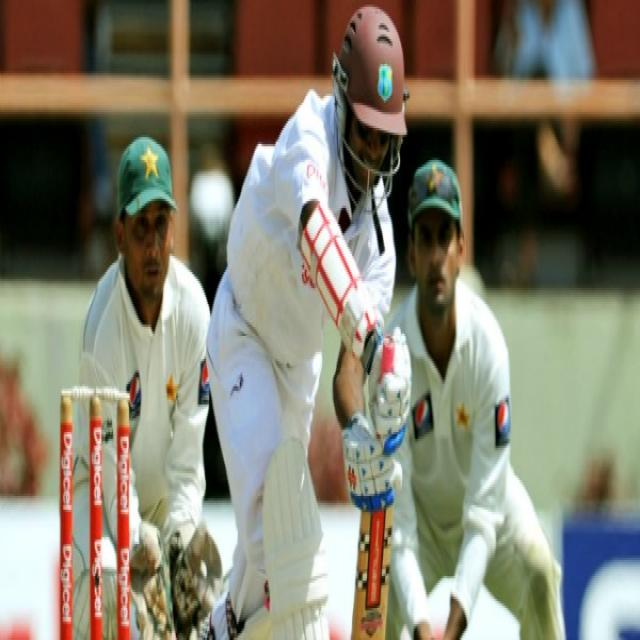stump: (59, 388, 132, 640)
